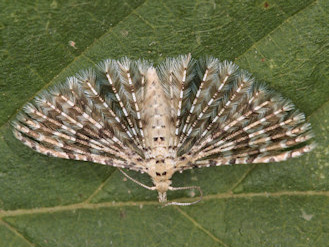Alucitidae: (8, 51, 321, 206)
moth: (10, 53, 323, 208)
